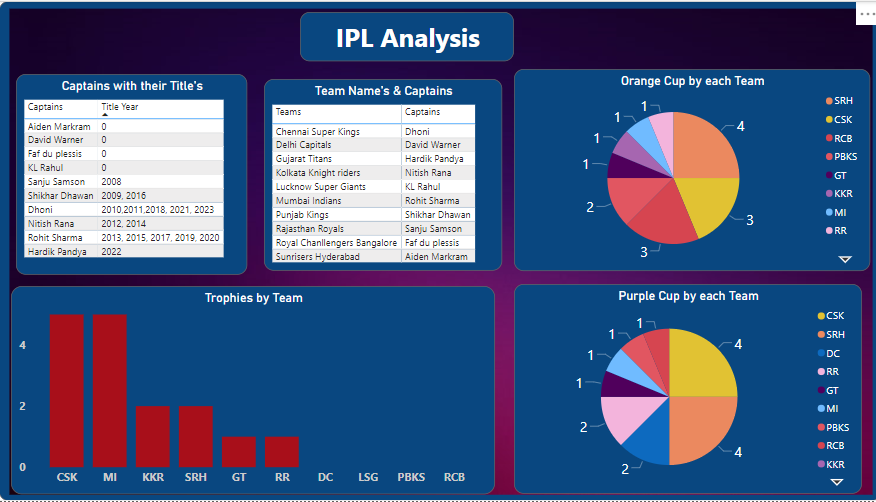

The dashboard page shown, as its layout file describes it:
{"tool":"powerbi","page":{"name":"Page 1","canvas":[1280,720],"ordinal":0},"visuals":[{"type":"image","box":[0,0,1270.1,720],"z":0},{"type":"textbox","box":[433.4,15.8,308.2,70.6],"z":1000},{"type":"columnChart","title":"Trophies  by Team","fields":{"Category":["Sheet1.Team Names"],"Y":["Sheet1.Trophies"]},"box":[17.3,410.4,697,299.5],"z":2000},{"type":"pieChart","title":"Orange Cup by each Team","fields":{"Category":["Sheet1.Team Names"],"Y":["Sheet1.Orange Cup"]},"box":[741.6,97.9,512.6,290.9],"z":3000},{"type":"pieChart","title":"Purple Cup by  each Team","fields":{"Category":["Sheet1.Team Names"],"Y":["Sheet1.Purple Cap"]},"box":[741.6,407.5,501.1,302.4],"z":4000},{"type":"tableEx","title":"Captains with their Title''s","fields":{"Values":["Sheet1 (2).Captains","Sheet1 (2).Title Year"]},"box":[24.5,105.1,332.6,289.4],"z":5000},{"type":"tableEx","title":"Team Name''s & Captains","fields":{"Values":["Sheet1 (2).Teams ","Sheet1 (2).Captains"]},"box":[381.6,112.3,342.7,276.5],"z":6000}]}

Visuals, with their boxes in screenshot pixels (x1, y1, x2, y2), scaled from the page's 1280x720 canvas onto the 876x502 screenshot:
image: <box>0,0,869,501</box>
textbox: <box>297,11,508,60</box>
"Trophies  by Team" columnChart: <box>12,286,489,495</box>
"Orange Cup by each Team" pieChart: <box>508,68,858,271</box>
"Purple Cup by  each Team" pieChart: <box>508,284,850,495</box>
"Captains with their Title''s" tableEx: <box>17,73,244,275</box>
"Team Name''s & Captains" tableEx: <box>261,78,496,271</box>
